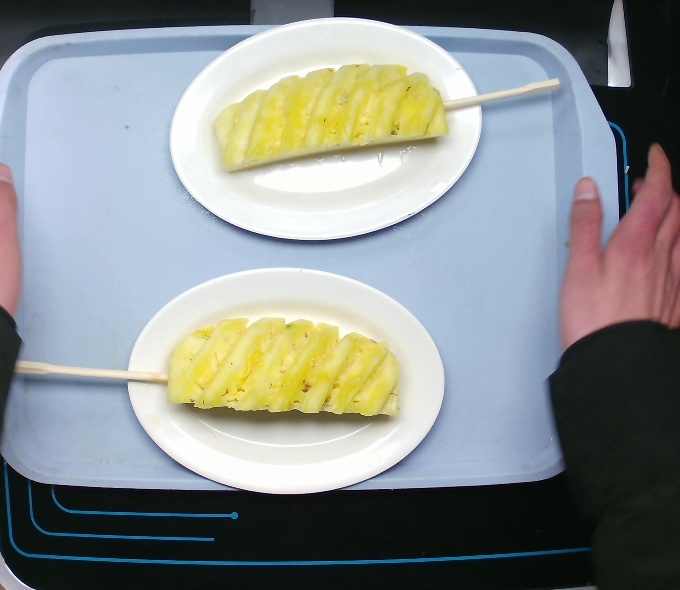wcq-BoLuo: (149, 298, 416, 438), (206, 59, 461, 191)
